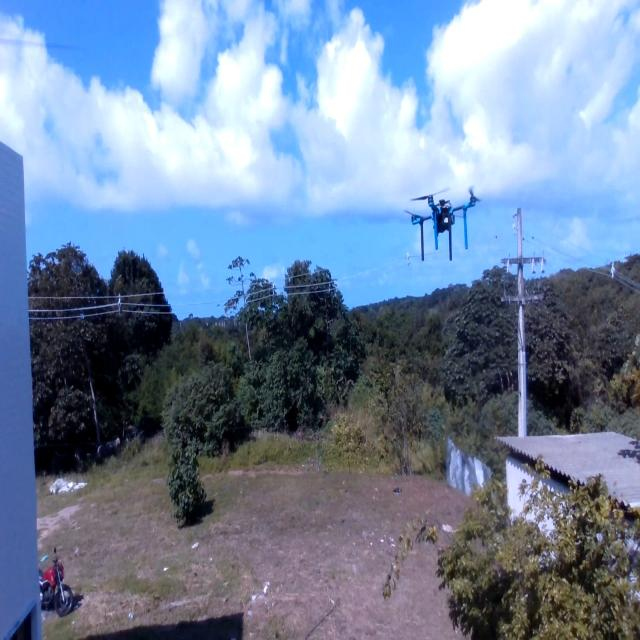-uav-: (394, 172, 486, 271)
